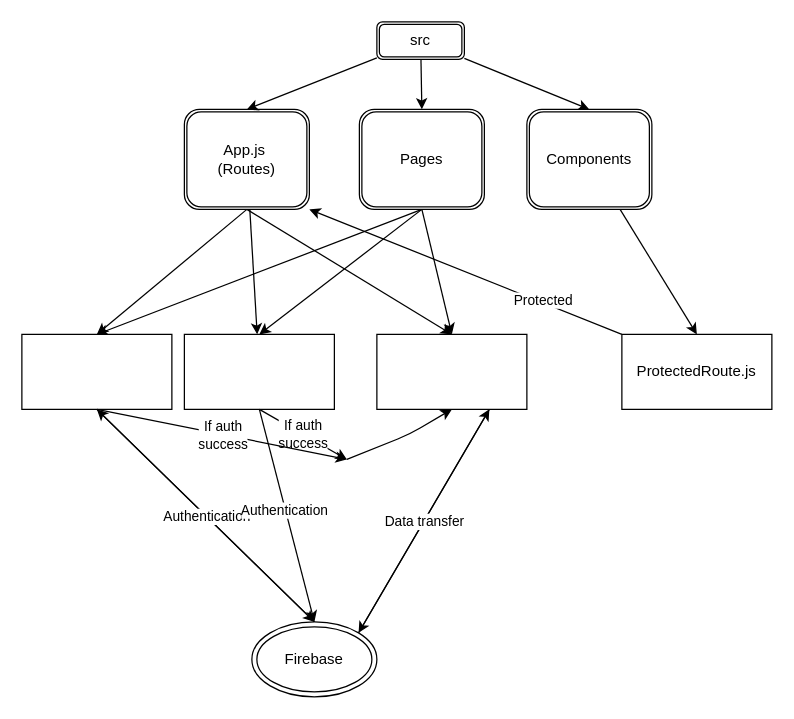
This 794x719 diagram has some shape labels left out. Each missing label, with the centre of its shape:
"Signin.js" goes at (x=258, y=371).
"Signup.js" goes at (x=96, y=371).
"ToDoList.js" goes at (x=451, y=371).
